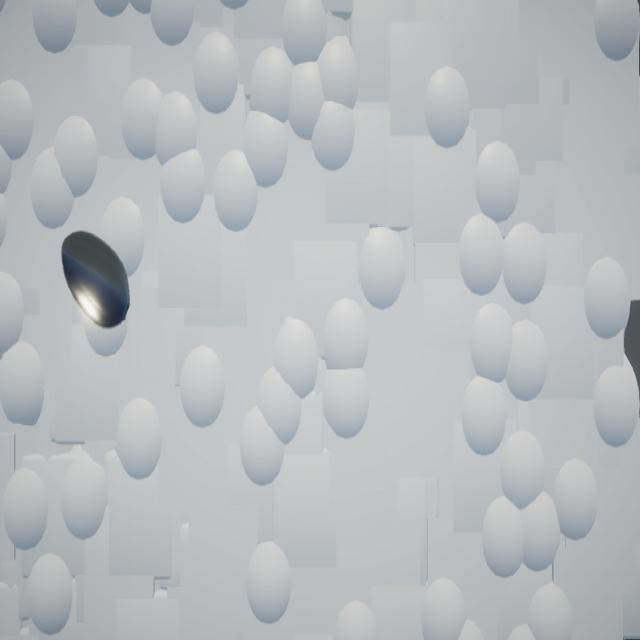top_spoon: (62, 232, 132, 331)
